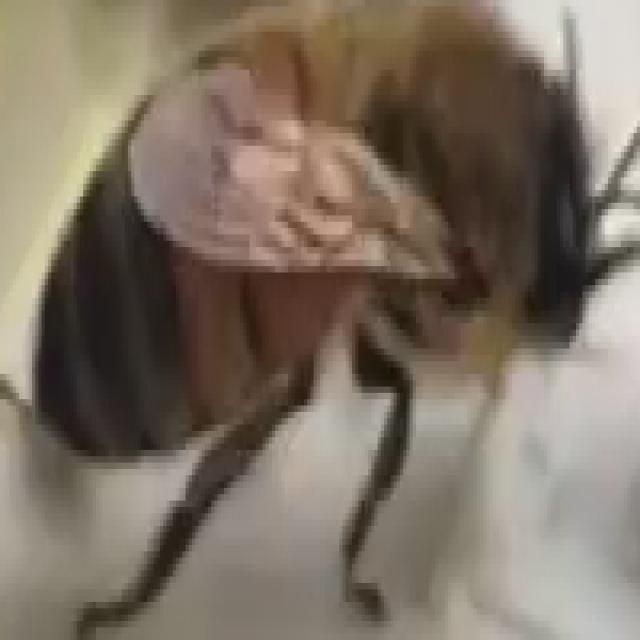honeybee: (22, 7, 640, 590)
